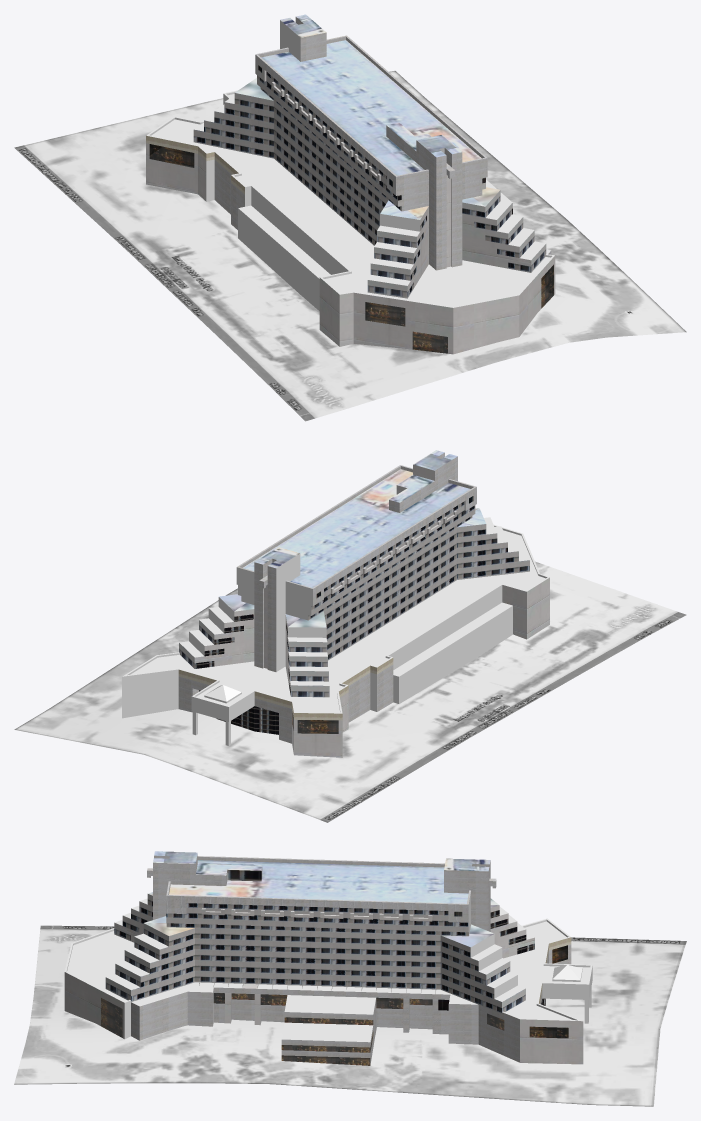
File: HOTEL-ROYAL-SOLARIS-CANCUN.fbx
The picture shows the model from 3 angles, top to bottom: view 1: azimuth 30°, elevation 25°; view 2: azimuth 150°, elevation 25°; view 3: azimuth 270°, elevation 25°; orthographic projection. The views are drawn at different scales.
Parts seen in each view (by area): view 1: Model, Google_Earth_Terrain; view 2: Model, Google_Earth_Terrain; view 3: Model, Google_Earth_Terrain.
Part boxes in pixels (box(x1,y1,x2,y2)): Model: box(146, 14, 555, 354); Google_Earth_Terrain: box(14, 70, 686, 421); Model: box(122, 450, 549, 757); Google_Earth_Terrain: box(14, 561, 686, 822); Model: box(64, 851, 592, 1065); Google_Earth_Terrain: box(14, 925, 686, 1106).
Bounding box in the file's own units: 116 × 46.4 × 173.
